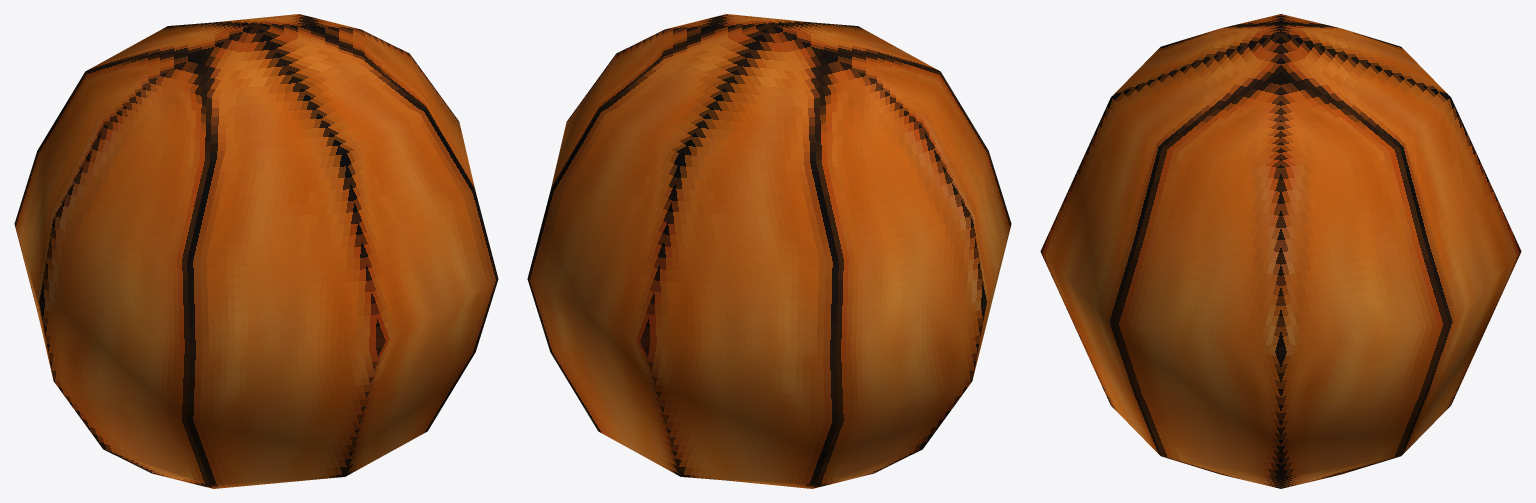
Rendered from a_sebasket03.glb.
3 views of the same model, side by side, from view 1: azimuth 30°, elevation 25°; view 2: azimuth 150°, elevation 25°; view 3: azimuth 270°, elevation 25° (orthographic). The views are drawn at different scales.
Parts seen in each view (by area): view 1: a_sebasket03; view 2: a_sebasket03; view 3: a_sebasket03.
Boxes of the visible parts, box(x1,y1,x2,y2) form: a_sebasket03: box(14, 14, 498, 488); a_sebasket03: box(527, 14, 1011, 488); a_sebasket03: box(1040, 14, 1521, 488).
Size of the model in its own units: 0.4059 by 0.4059 by 0.4066.
Materials: 1 (1 with a texture image).
